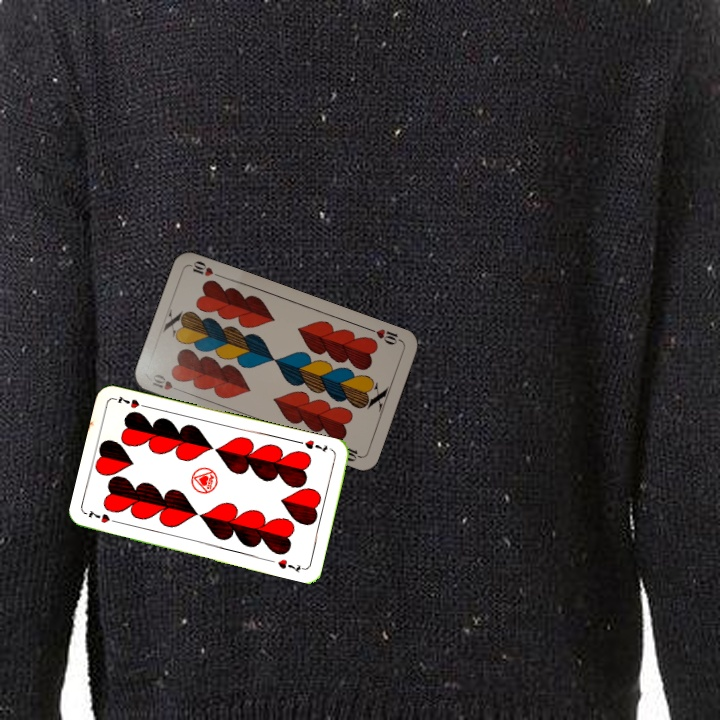H10: (148, 370, 185, 395), (365, 324, 404, 347)
H7: (83, 506, 123, 526), (301, 436, 330, 455)
